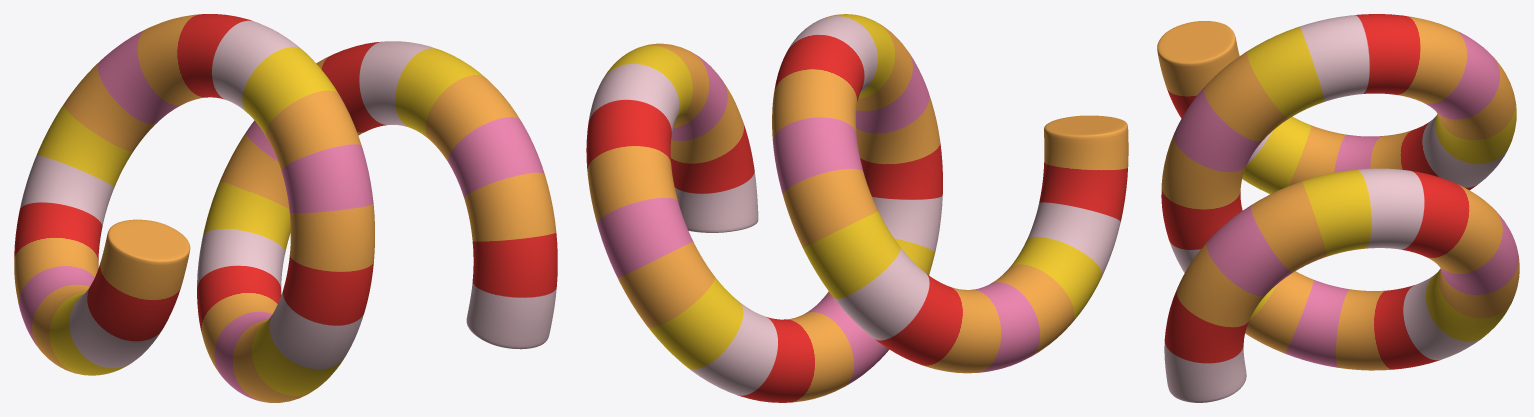
File: C-1_Onstick.fbx
The picture shows the model from 3 angles, left to right: view 1: azimuth 30°, elevation 25°; view 2: azimuth 150°, elevation 25°; view 3: azimuth 270°, elevation 25°; orthographic projection. The views are drawn at different scales.
Parts seen in each view (by area): view 1: C-1; view 2: C-1; view 3: C-1.
Part boxes in pixels (x1,y1,x2,y2): C-1: [14, 14, 557, 402]; C-1: [586, 14, 1128, 402]; C-1: [1157, 14, 1519, 402].
Bounding box in the file's own units: 1.29 × 0.9702 × 0.9299.
Materials: 1 (1 with a texture image).
